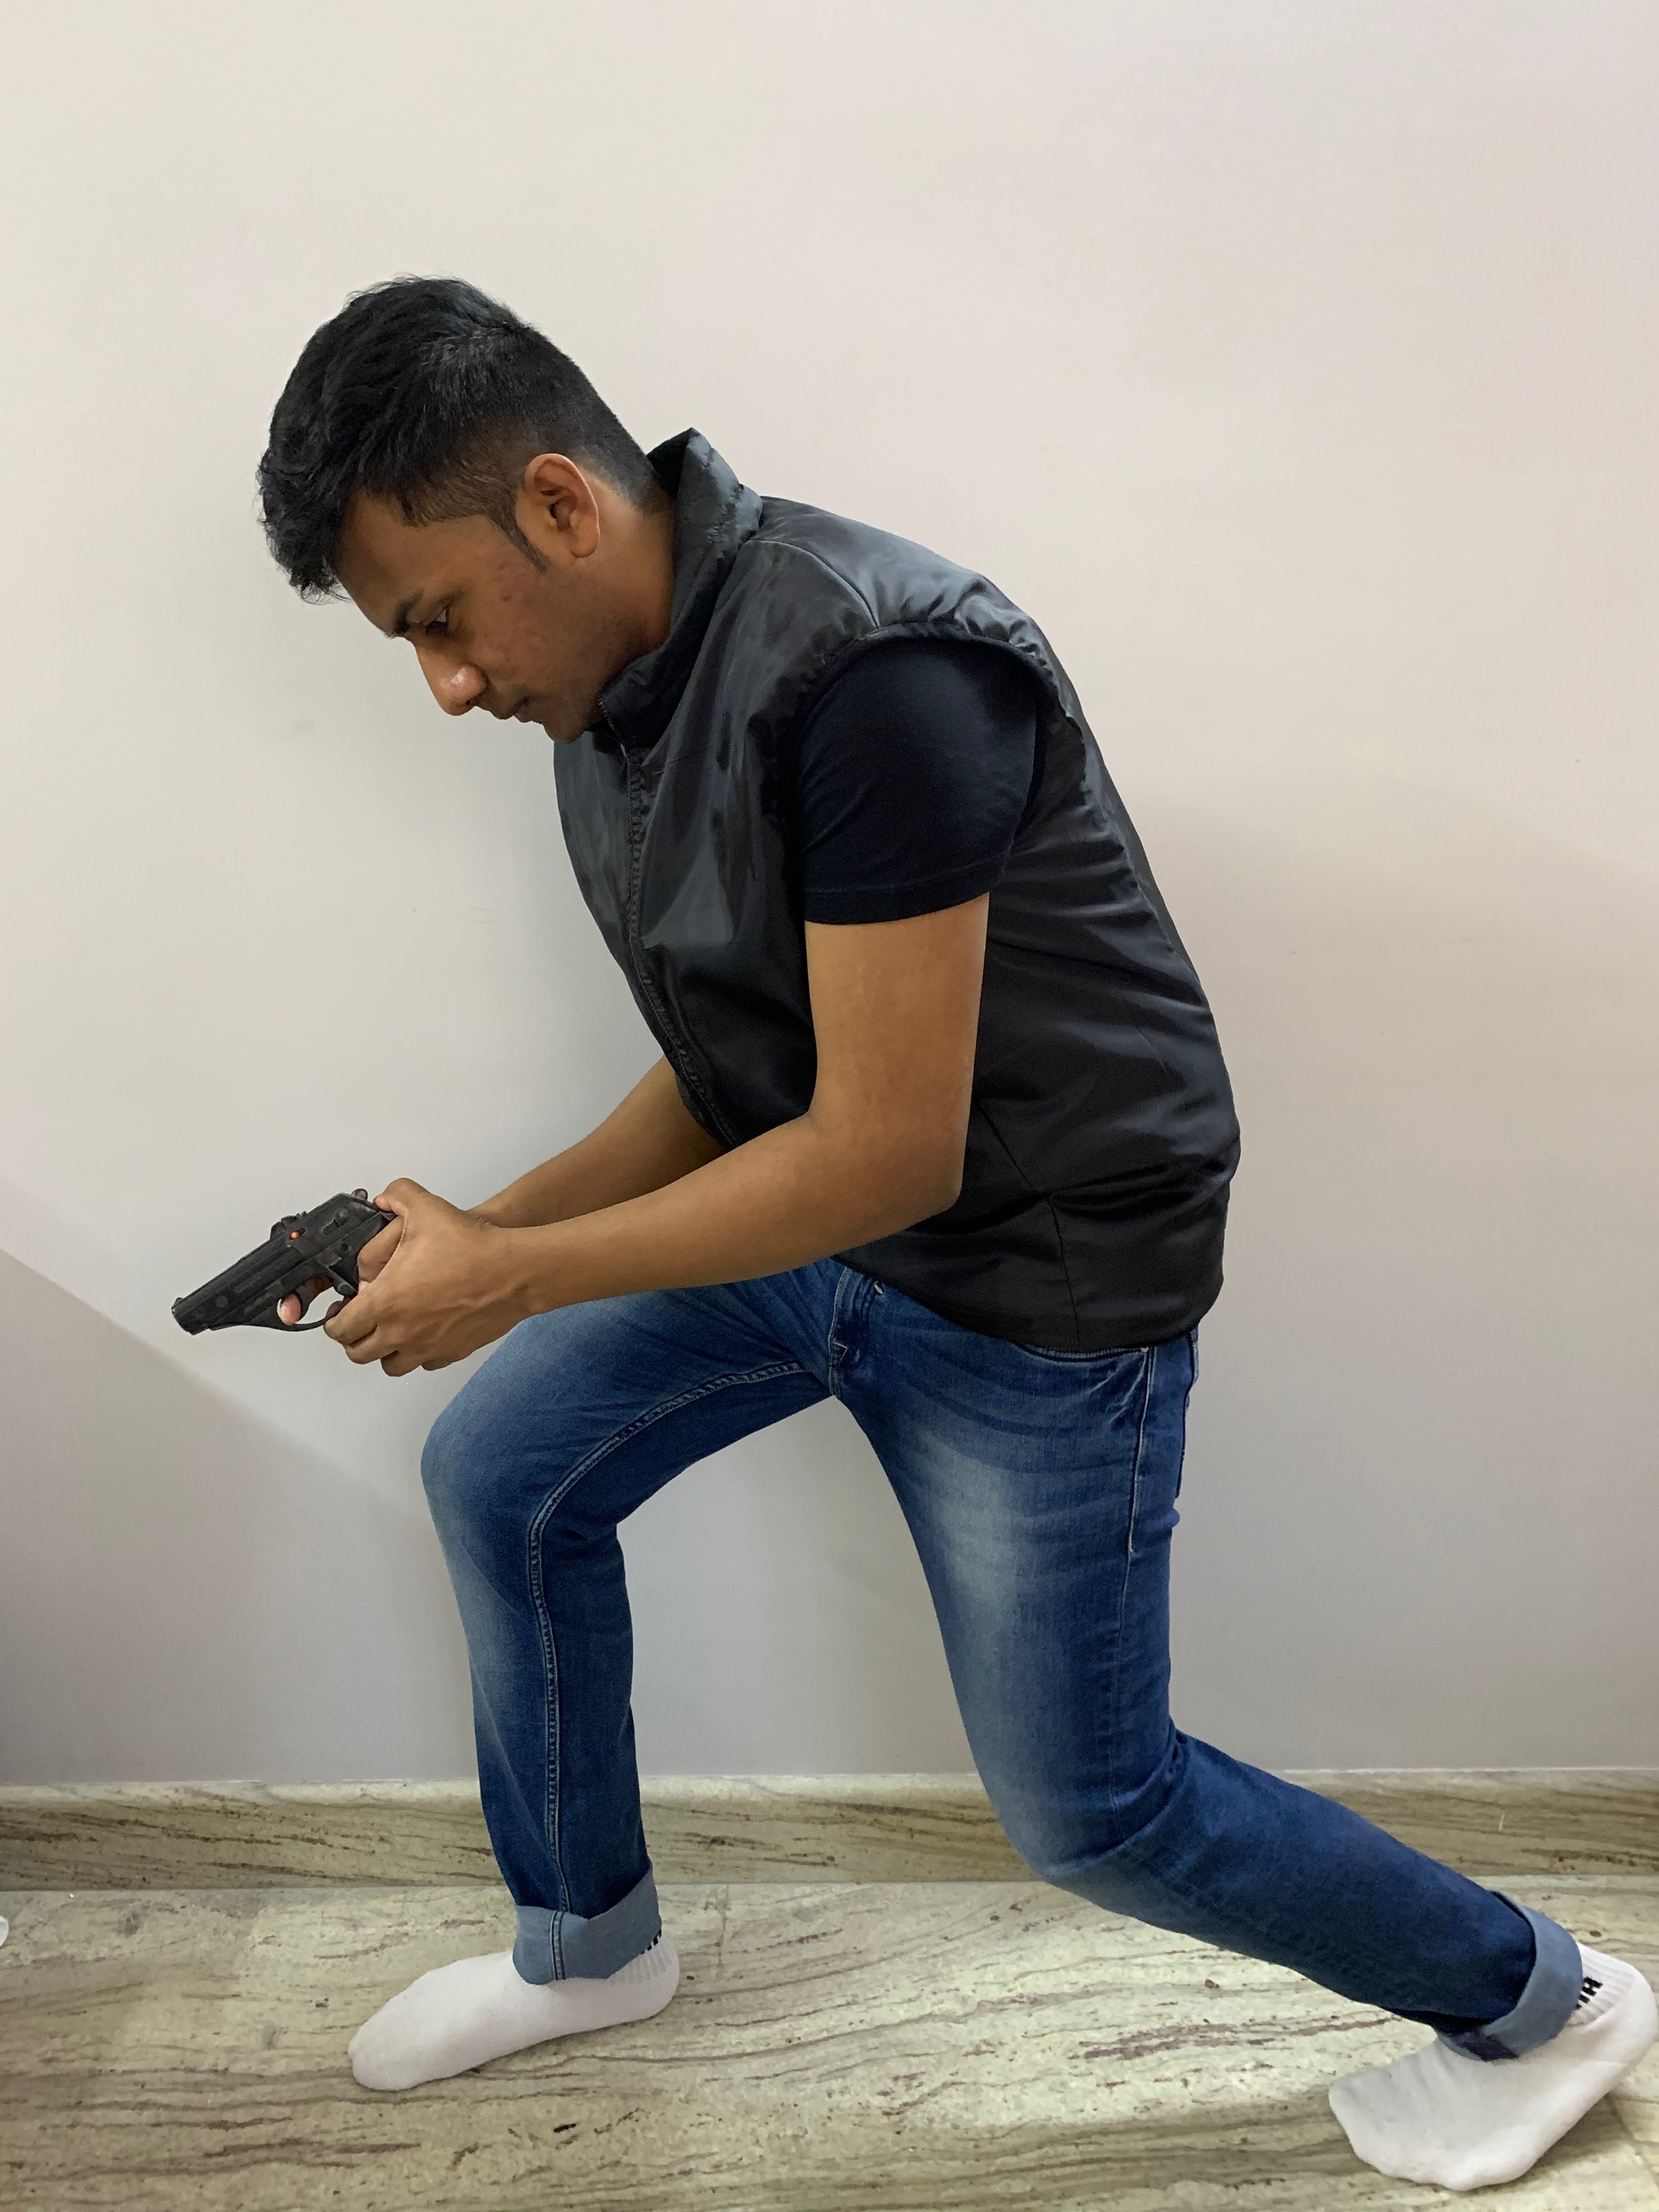gun: (167, 1184, 397, 1336)
